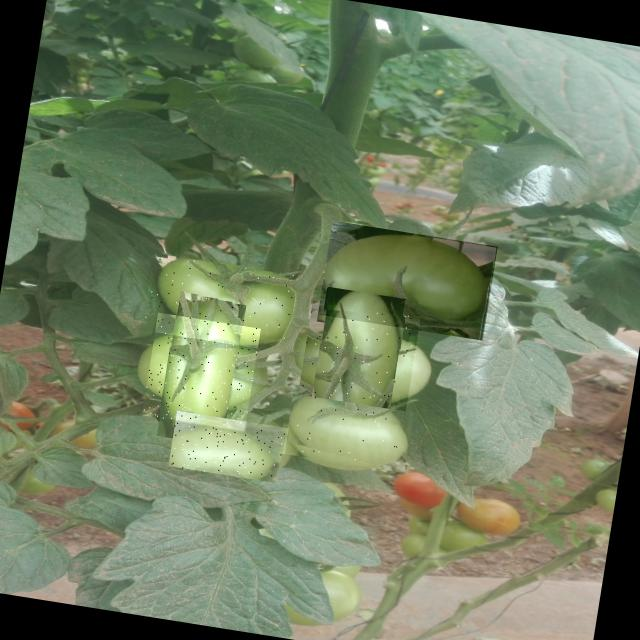Unripe Tomato: (318, 220, 498, 340), (140, 253, 298, 353), (296, 300, 420, 426), (142, 313, 261, 432), (279, 393, 413, 473), (168, 411, 286, 484)
